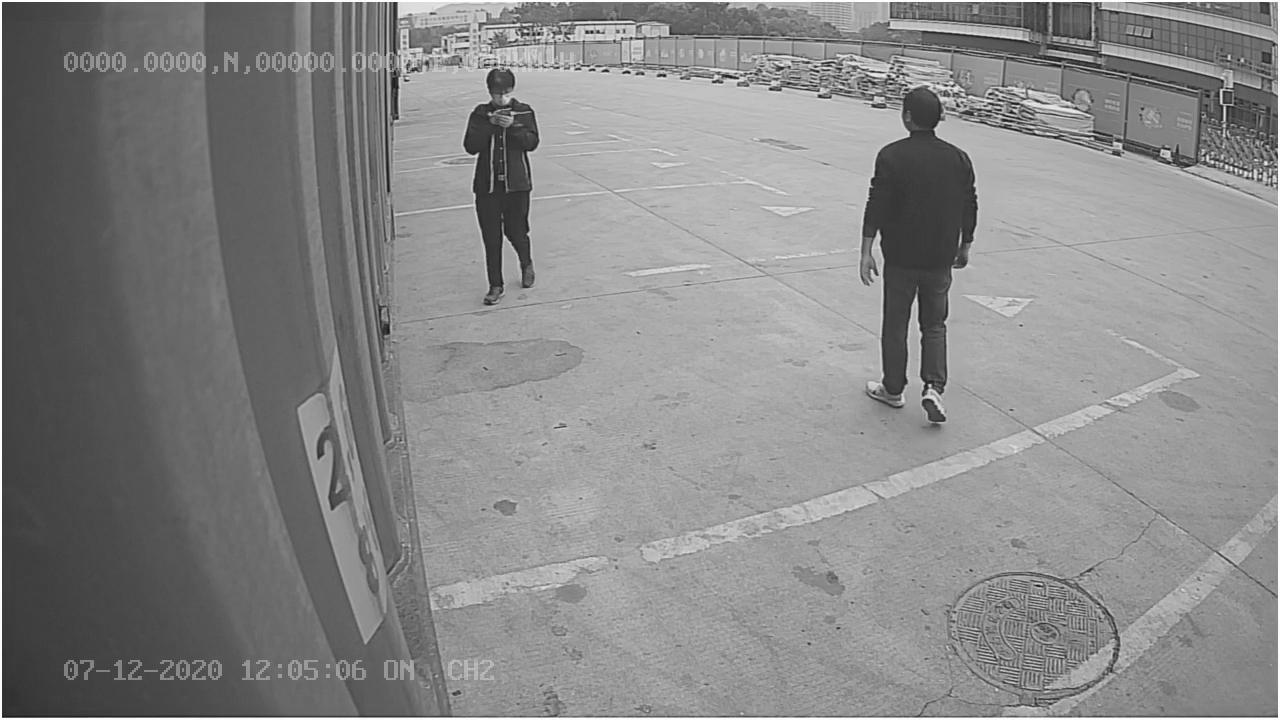person: (857, 90, 978, 427), (452, 66, 549, 306)
